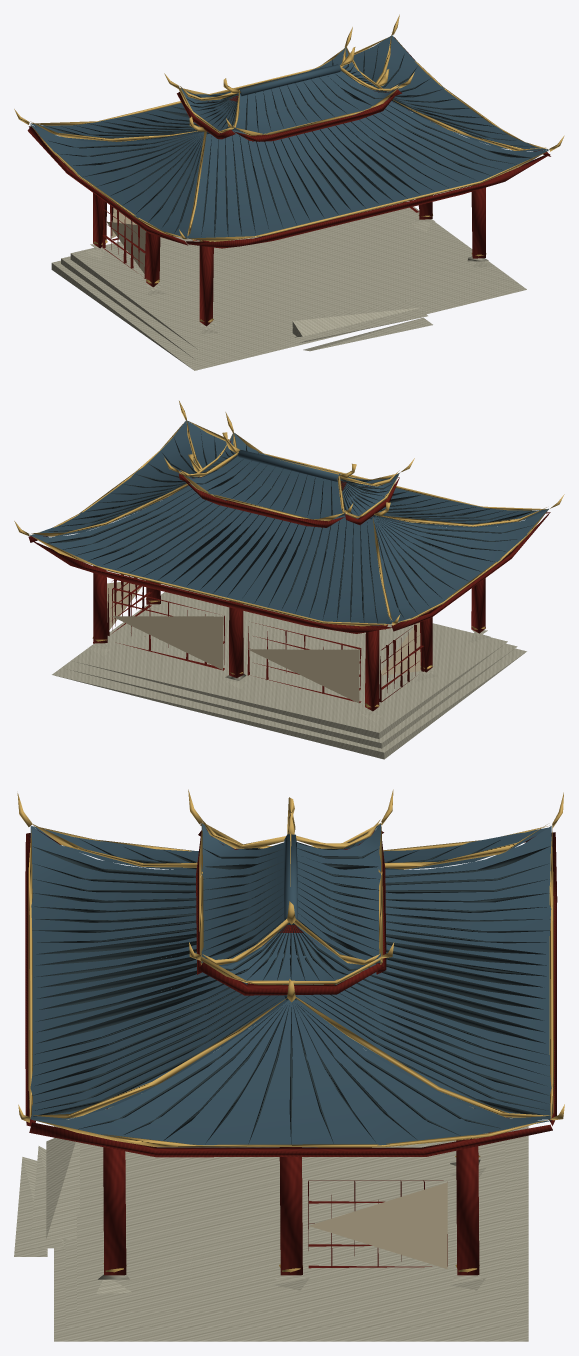
The model's file is pavilion_far.glb.
The picture shows the model from 3 angles, top to bottom: view 1: azimuth 30°, elevation 25°; view 2: azimuth 150°, elevation 25°; view 3: azimuth 270°, elevation 25°; orthographic projection. The views are drawn at different scales.
Parts seen in each view (by area): view 1: pavilion_far_Temple_Charcoal_Glazed_Tiles, pavilion_far_Temple_Worn_Pale_Stone, pavilion_far_Temple_Dark_Ridge_and_Iron, pavilion_far_Temple_Red_Timber, pavilion_far_Temple_Antique_Gold, pavilion_far_Temple_Warm_Paper; view 2: pavilion_far_Temple_Charcoal_Glazed_Tiles, pavilion_far_Temple_Worn_Pale_Stone, pavilion_far_Temple_Red_Timber, pavilion_far_Temple_Dark_Ridge_and_Iron, pavilion_far_Temple_Warm_Paper, pavilion_far_Temple_Antique_Gold; view 3: pavilion_far_Temple_Charcoal_Glazed_Tiles, pavilion_far_Temple_Worn_Pale_Stone, pavilion_far_Temple_Dark_Ridge_and_Iron, pavilion_far_Temple_Red_Timber, pavilion_far_Temple_Antique_Gold, pavilion_far_Temple_Warm_Paper.
Boxes of the visible parts, bbox=[...] form: pavilion_far_Temple_Charcoal_Glazed_Tiles: bbox=[30, 35, 549, 240]; pavilion_far_Temple_Worn_Pale_Stone: bbox=[51, 201, 526, 370]; pavilion_far_Temple_Dark_Ridge_and_Iron: bbox=[46, 46, 533, 237]; pavilion_far_Temple_Red_Timber: bbox=[27, 37, 550, 326]; pavilion_far_Temple_Antique_Gold: bbox=[14, 14, 564, 322]; pavilion_far_Temple_Warm_Paper: bbox=[106, 208, 146, 273]; pavilion_far_Temple_Charcoal_Glazed_Tiles: bbox=[29, 420, 548, 625]; pavilion_far_Temple_Worn_Pale_Stone: bbox=[52, 586, 526, 759]; pavilion_far_Temple_Red_Timber: bbox=[28, 441, 550, 711]; pavilion_far_Temple_Dark_Ridge_and_Iron: bbox=[47, 431, 533, 623]; pavilion_far_Temple_Warm_Paper: bbox=[107, 579, 420, 703]; pavilion_far_Temple_Antique_Gold: bbox=[14, 401, 564, 707]; pavilion_far_Temple_Charcoal_Glazed_Tiles: bbox=[30, 823, 551, 1145]; pavilion_far_Temple_Worn_Pale_Stone: bbox=[14, 1093, 528, 1341]; pavilion_far_Temple_Dark_Ridge_and_Iron: bbox=[31, 834, 550, 1144]; pavilion_far_Temple_Red_Timber: bbox=[25, 829, 557, 1275]; pavilion_far_Temple_Antique_Gold: bbox=[17, 789, 564, 1272]; pavilion_far_Temple_Warm_Paper: bbox=[309, 1182, 447, 1269].
Size of the model in its own units: 12.85 by 6.95 by 9.57.
6 materials, 2 textured.
